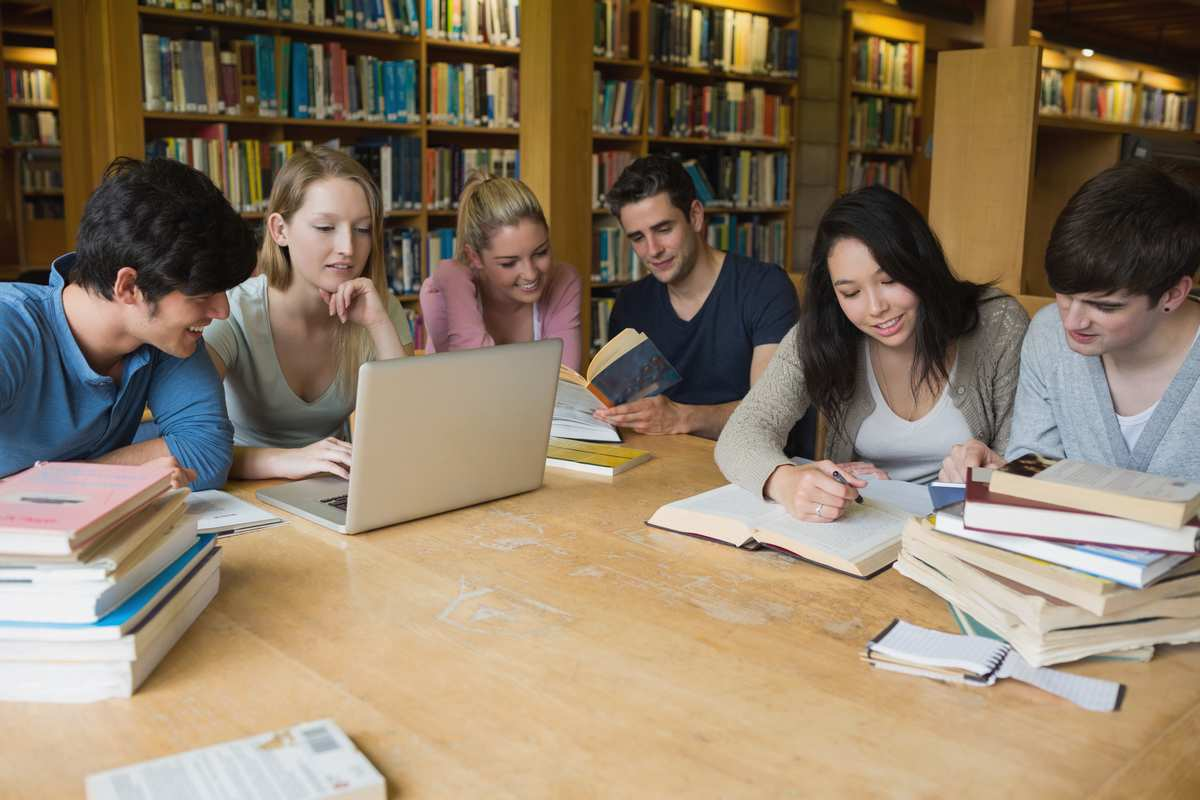students: (712, 185, 1035, 525), (1, 153, 266, 496), (937, 158, 1200, 490), (213, 147, 414, 483), (593, 152, 794, 442), (416, 170, 584, 378)
